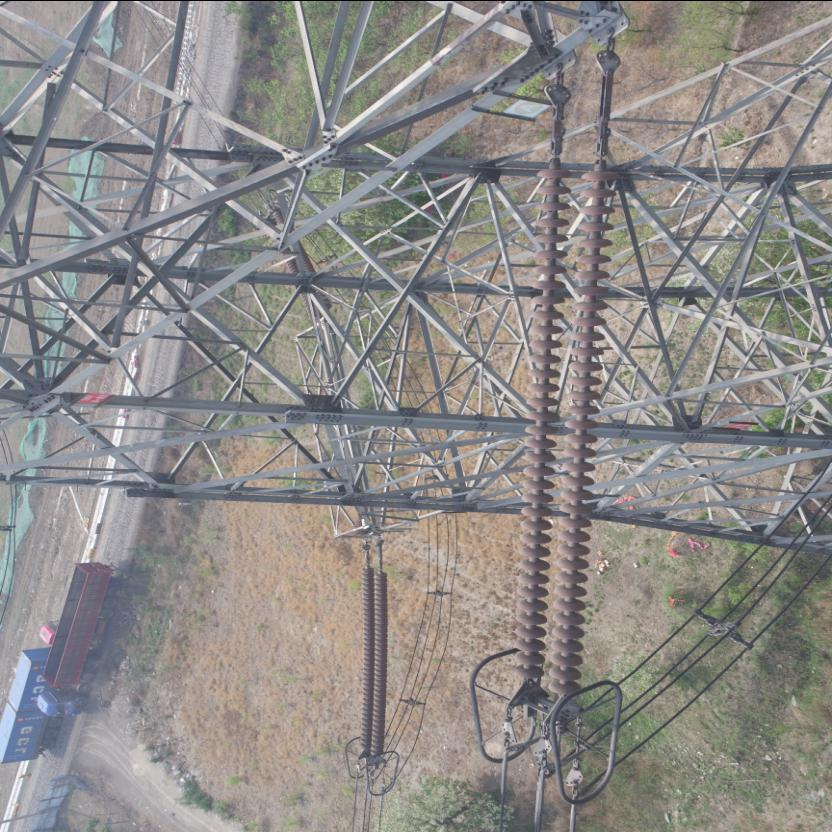insulator: (504, 114, 620, 706), (354, 550, 388, 758)
